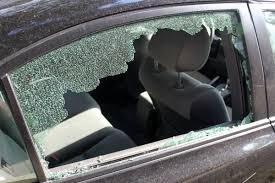doorouter-dent: (41, 3, 255, 182)
